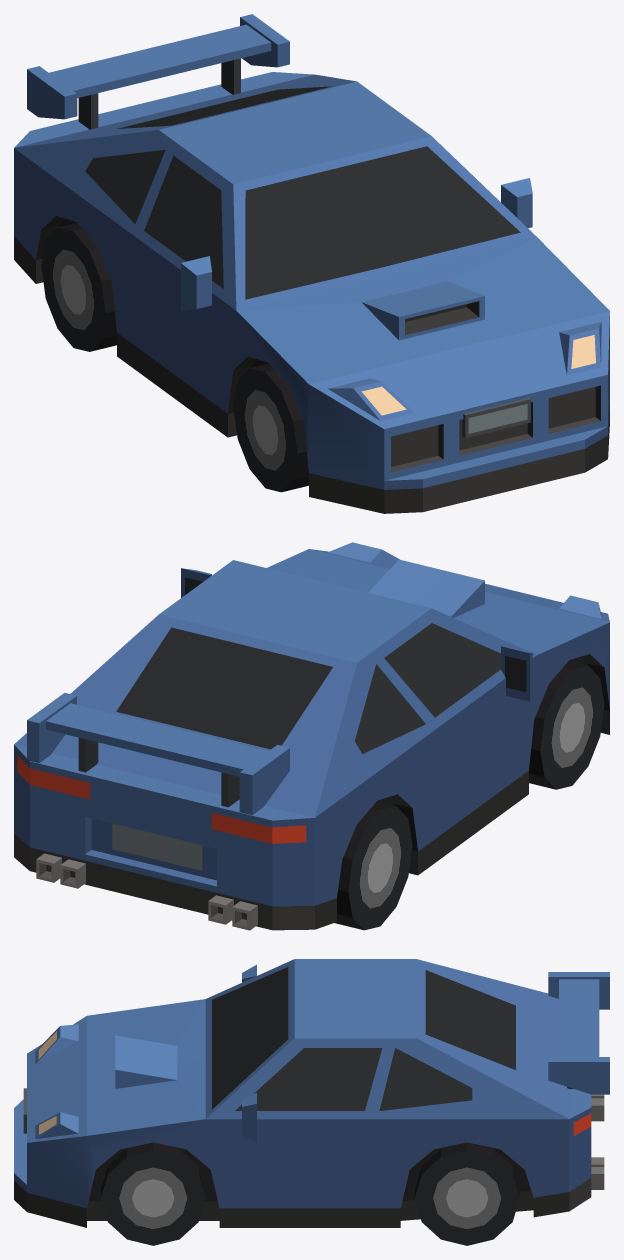
Rendered from StreetCar_Blue.fbx.
3 renders of one model, top to bottom at view 1: azimuth 30°, elevation 25°; view 2: azimuth 150°, elevation 25°; view 3: azimuth 270°, elevation 25°, orthographic. The views are drawn at different scales.
Visible parts, largest first — view 1: SR_Veh_StreetCar_Blue, SR_Veh_Wheel_RR, SR_Veh_Wheel_FR; view 2: SR_Veh_StreetCar_Blue, SR_Veh_Wheel_RR, SR_Veh_Wheel_FR; view 3: SR_Veh_StreetCar_Blue, SR_Veh_Wheel_RL, SR_Veh_Wheel_FL.
Part boxes in pixels (bbox=[...]): SR_Veh_StreetCar_Blue: bbox=[14, 14, 609, 513]; SR_Veh_Wheel_RR: bbox=[41, 223, 116, 351]; SR_Veh_Wheel_FR: bbox=[233, 363, 308, 492]; SR_Veh_StreetCar_Blue: bbox=[14, 542, 609, 930]; SR_Veh_Wheel_RR: bbox=[335, 801, 412, 930]; SR_Veh_Wheel_FR: bbox=[529, 661, 604, 789]; SR_Veh_StreetCar_Blue: bbox=[14, 959, 609, 1227]; SR_Veh_Wheel_RL: bbox=[414, 1142, 519, 1245]; SR_Veh_Wheel_FL: bbox=[101, 1142, 205, 1245].
Bounding box in the file's own units: 389 × 242 × 703.
Materials: 1 (1 with a texture image).
